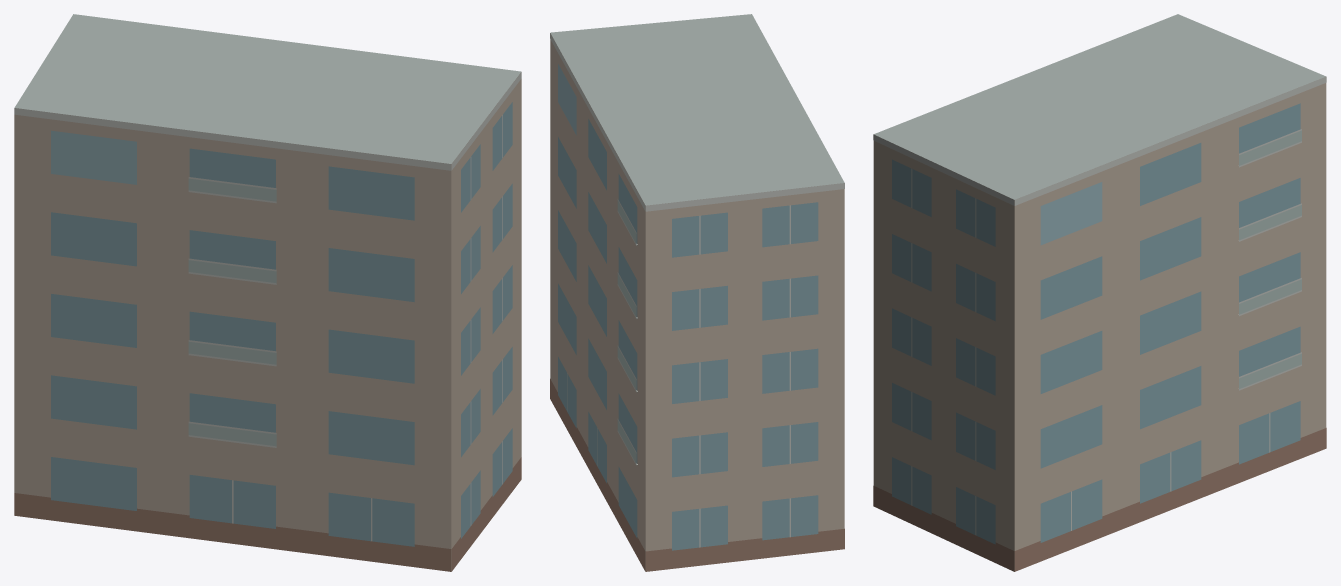
The model's file is survey-upis-32923102.glb.
The picture shows the model from 3 angles, left to right: view 1: azimuth 30°, elevation 25°; view 2: azimuth 150°, elevation 25°; view 3: azimuth 270°, elevation 25°; orthographic projection. The views are drawn at different scales.
Parts seen in each view (by area): view 1: survey-upis-32923102.tmp; view 2: survey-upis-32923102.tmp; view 3: survey-upis-32923102.tmp.
Boxes of the visible parts, box(x1,y1,x2,y2) form: survey-upis-32923102.tmp: box(14, 14, 521, 571); survey-upis-32923102.tmp: box(550, 14, 844, 571); survey-upis-32923102.tmp: box(873, 14, 1326, 571).
Bounding box in the file's own units: 15.76 × 14.7 × 16.23.
